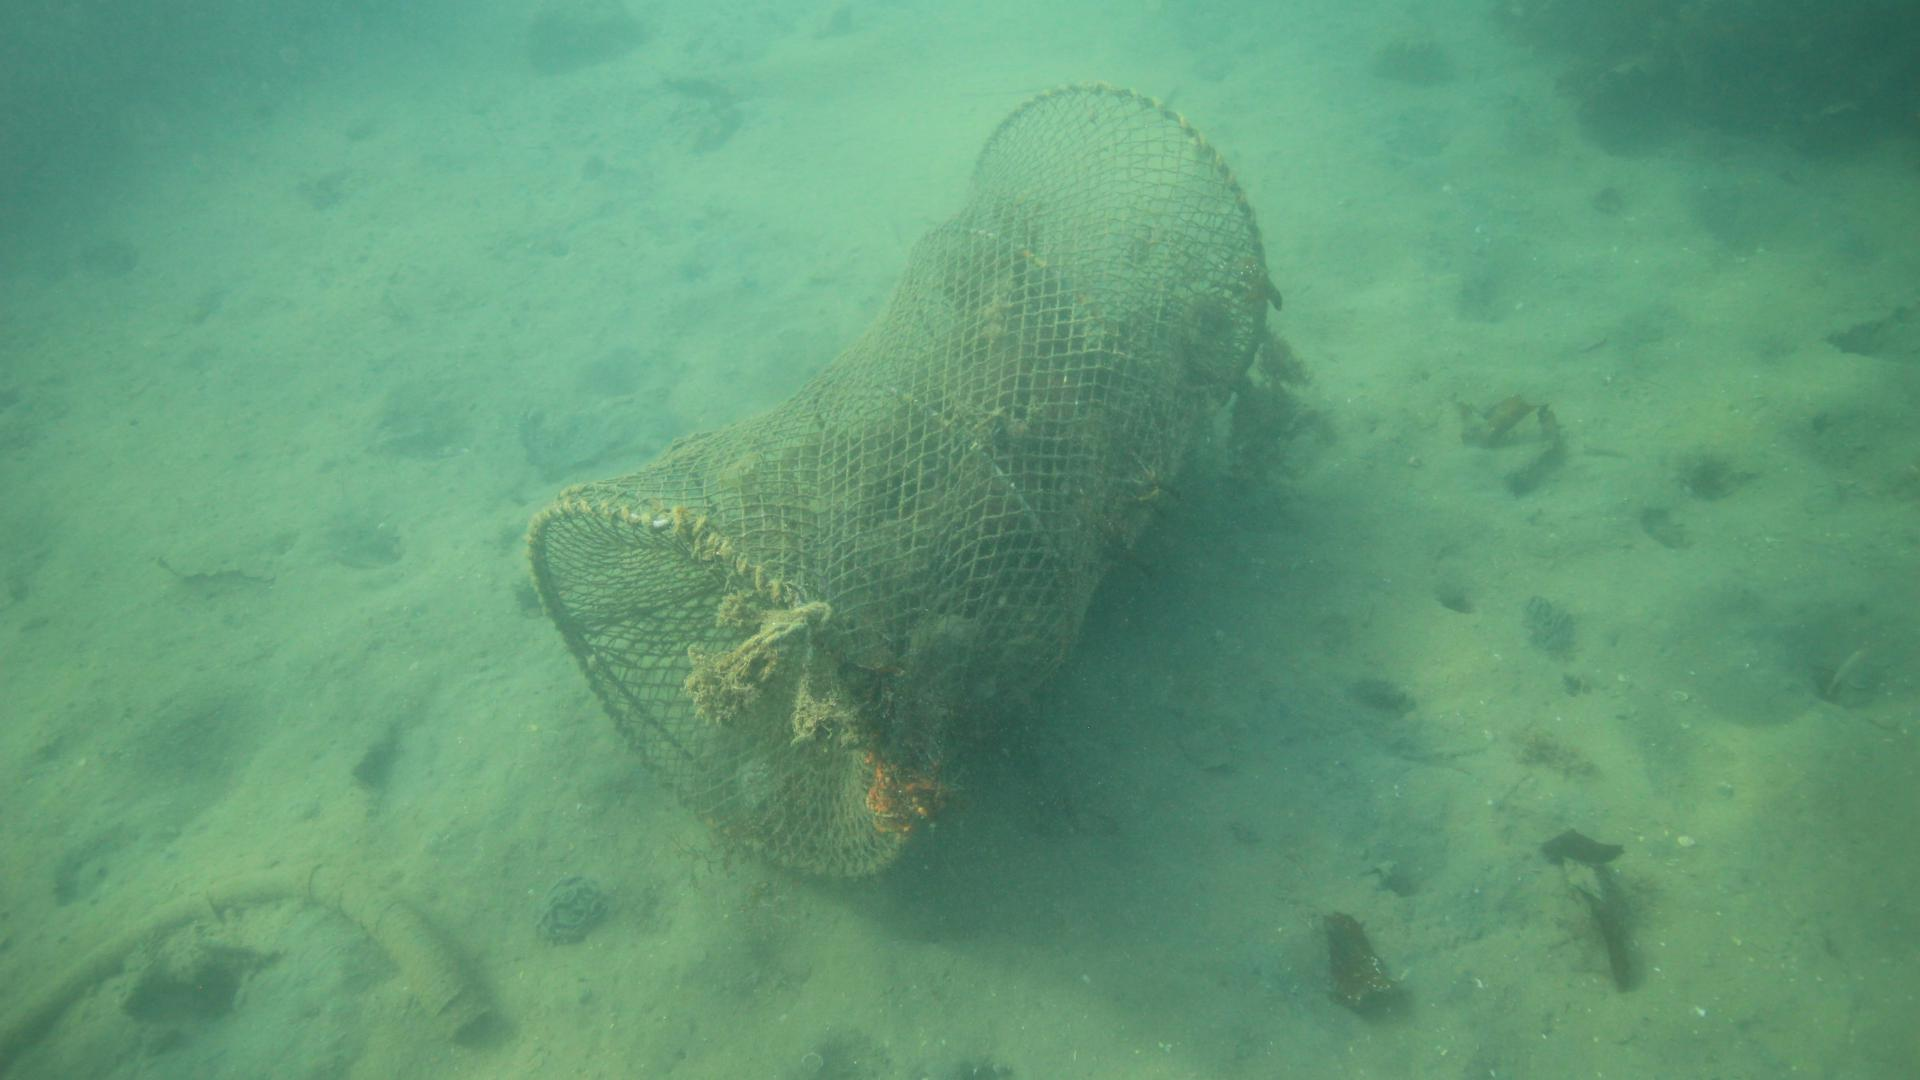spring fish trap: (524, 78, 1278, 882)
